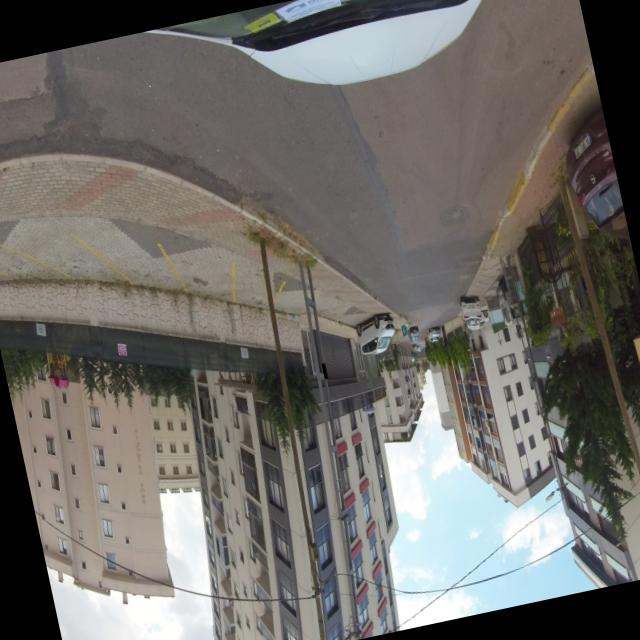Utility Pole Information Plate: (320, 362, 326, 377)
